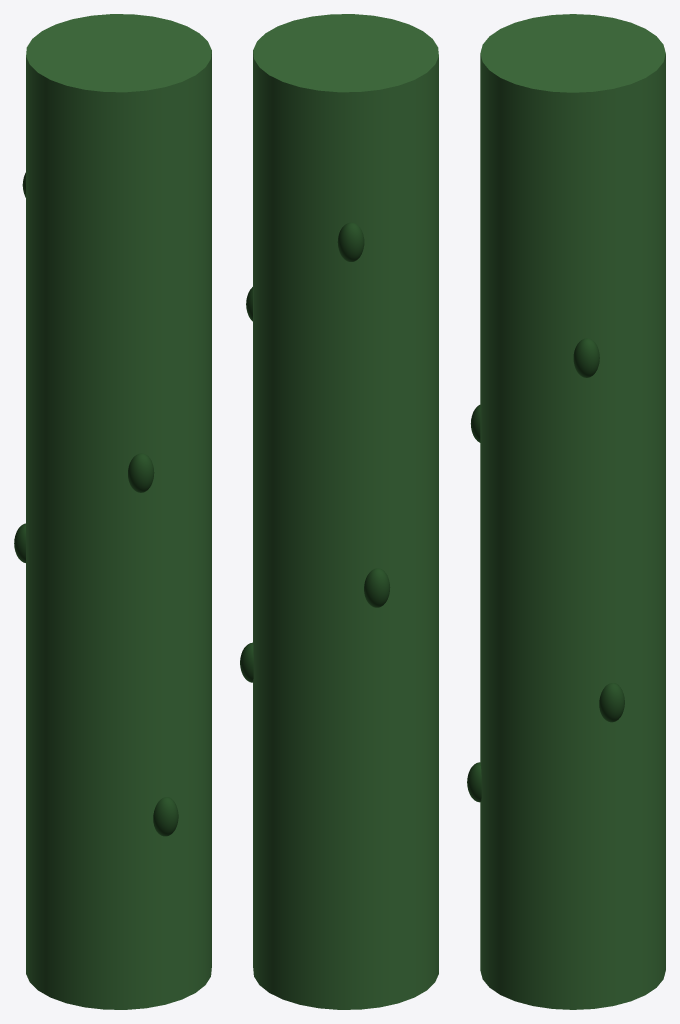
File: wp-concombre.glb
The picture shows the model from 3 angles, left to right: view 1: azimuth 30°, elevation 25°; view 2: azimuth 150°, elevation 25°; view 3: azimuth 270°, elevation 25°; orthographic projection.
Parts seen in each view (by area): view 1: wp-concombre; view 2: wp-concombre; view 3: wp-concombre.
Part boxes in pixels (x1,y1,x2,y2): wp-concombre: [14, 14, 211, 1009]; wp-concombre: [240, 14, 438, 1009]; wp-concombre: [467, 14, 665, 1009].
Size of the model in its own units: 0.055 by 0.28 by 0.055.
